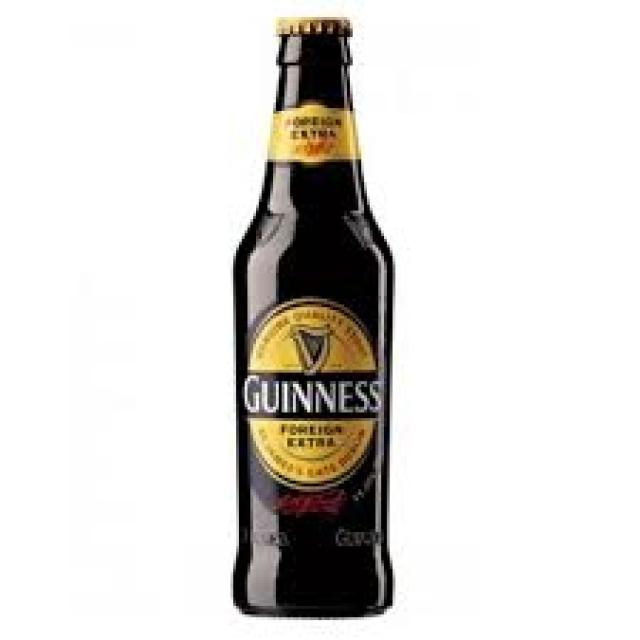glass: (233, 29, 393, 618)
metal: (273, 12, 347, 32)
